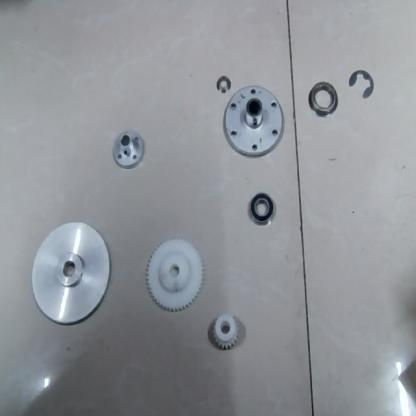FOD: (29, 220, 113, 330), (143, 228, 205, 314), (221, 87, 287, 162), (110, 125, 151, 172), (207, 310, 239, 354), (305, 80, 339, 121), (345, 63, 377, 104), (245, 192, 274, 231), (207, 73, 233, 97)
